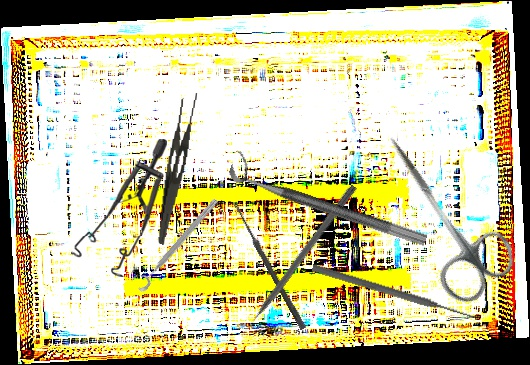Dressing Forceps: (156, 90, 201, 247)
Fixation Ring: (226, 149, 434, 248), (129, 191, 221, 294)
Iris Scissors: (355, 116, 525, 312)
Pusher: (236, 182, 358, 340), (311, 262, 475, 323)
Speculum: (70, 137, 168, 278)
Surgical Spoon: (231, 200, 307, 331)
